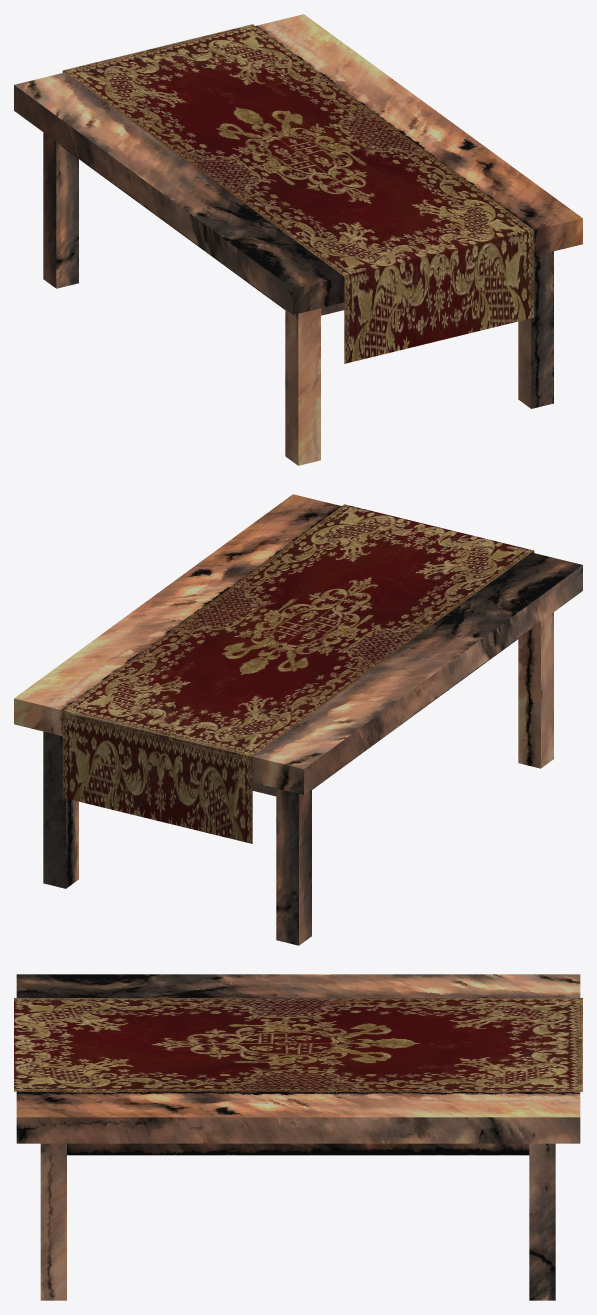
Rendered from Table.fbx.
3 views of the same model, one above another, from view 1: azimuth 30°, elevation 25°; view 2: azimuth 150°, elevation 25°; view 3: azimuth 270°, elevation 25° (orthographic).
Visible parts, largest first — view 1: Table; view 2: Table; view 3: Table.
Boxes of the visible parts, x1,y1,x2,y2 form: Table: (14,14,582,465); Table: (14,494,582,945); Table: (14,974,582,1300).
Bounding box in the file's own units: 120 × 75.48 × 202.
2 materials, 2 textured.
